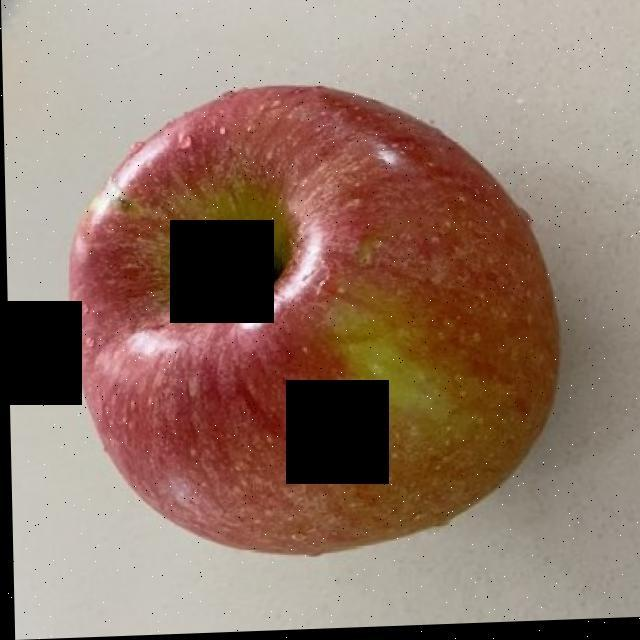apple: (82, 93, 550, 555)
